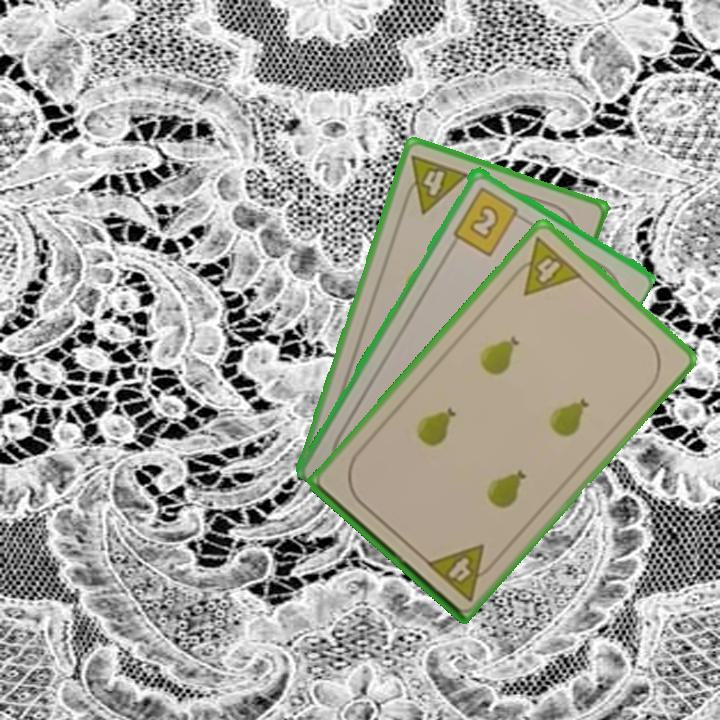2b: (449, 183, 527, 258)
4p: (504, 233, 585, 299), (422, 540, 501, 605), (398, 151, 472, 217)
